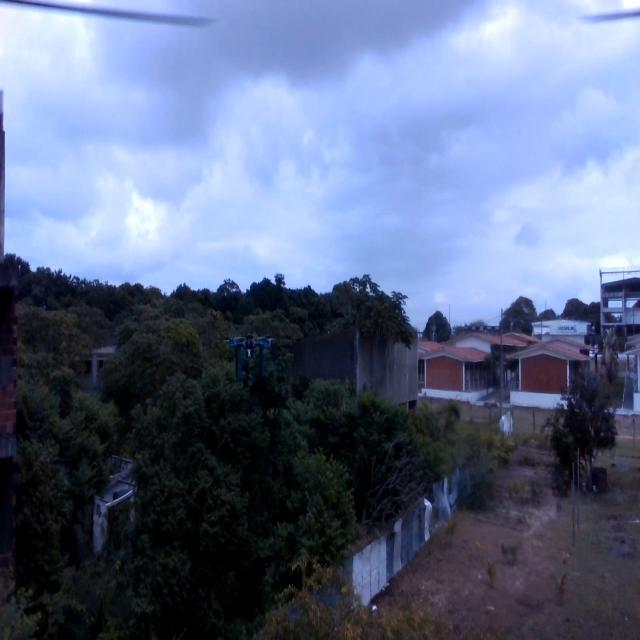-uav-: (214, 319, 294, 397)
